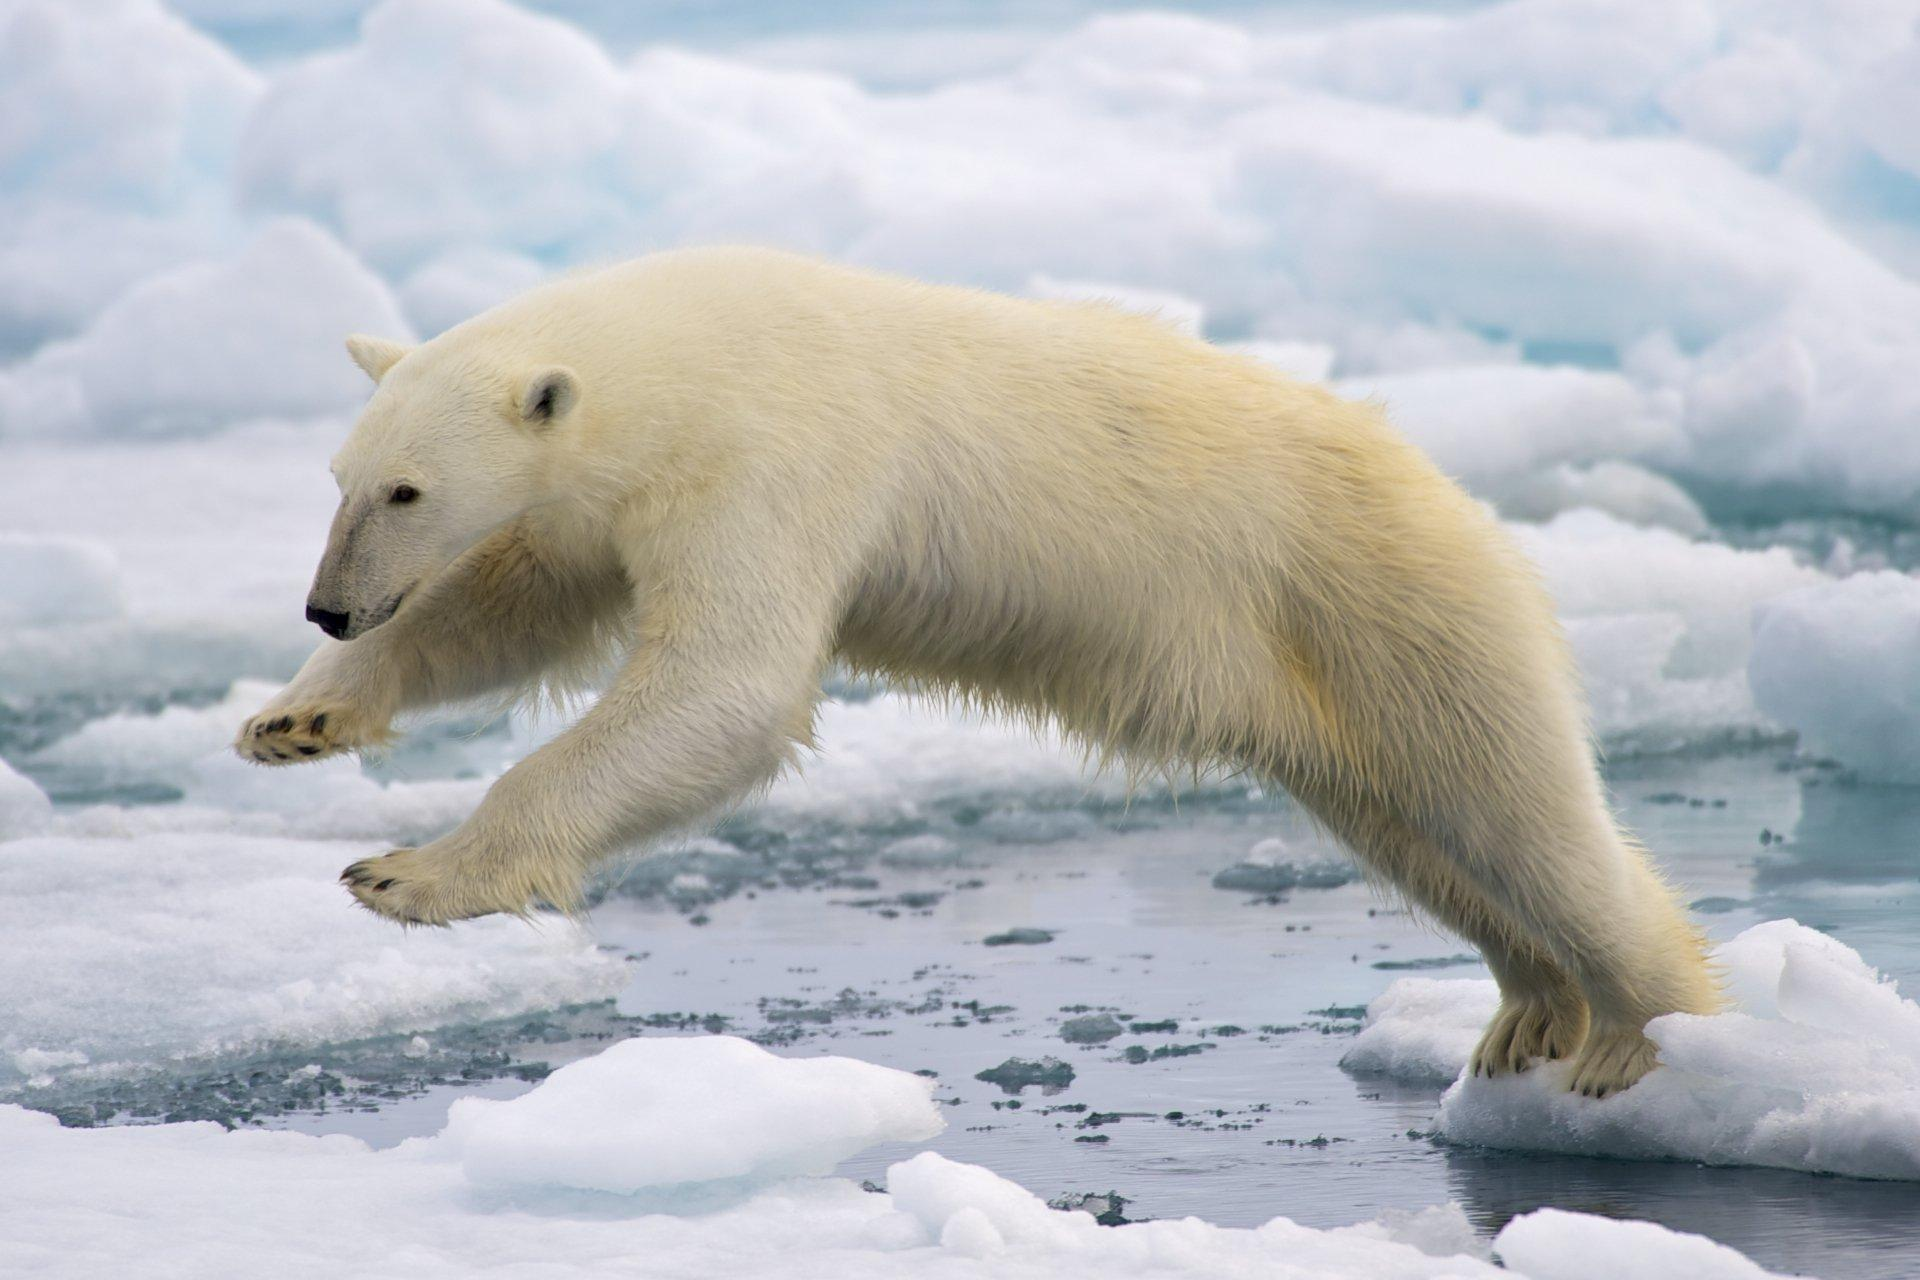bear: (234, 236, 1737, 1093)
